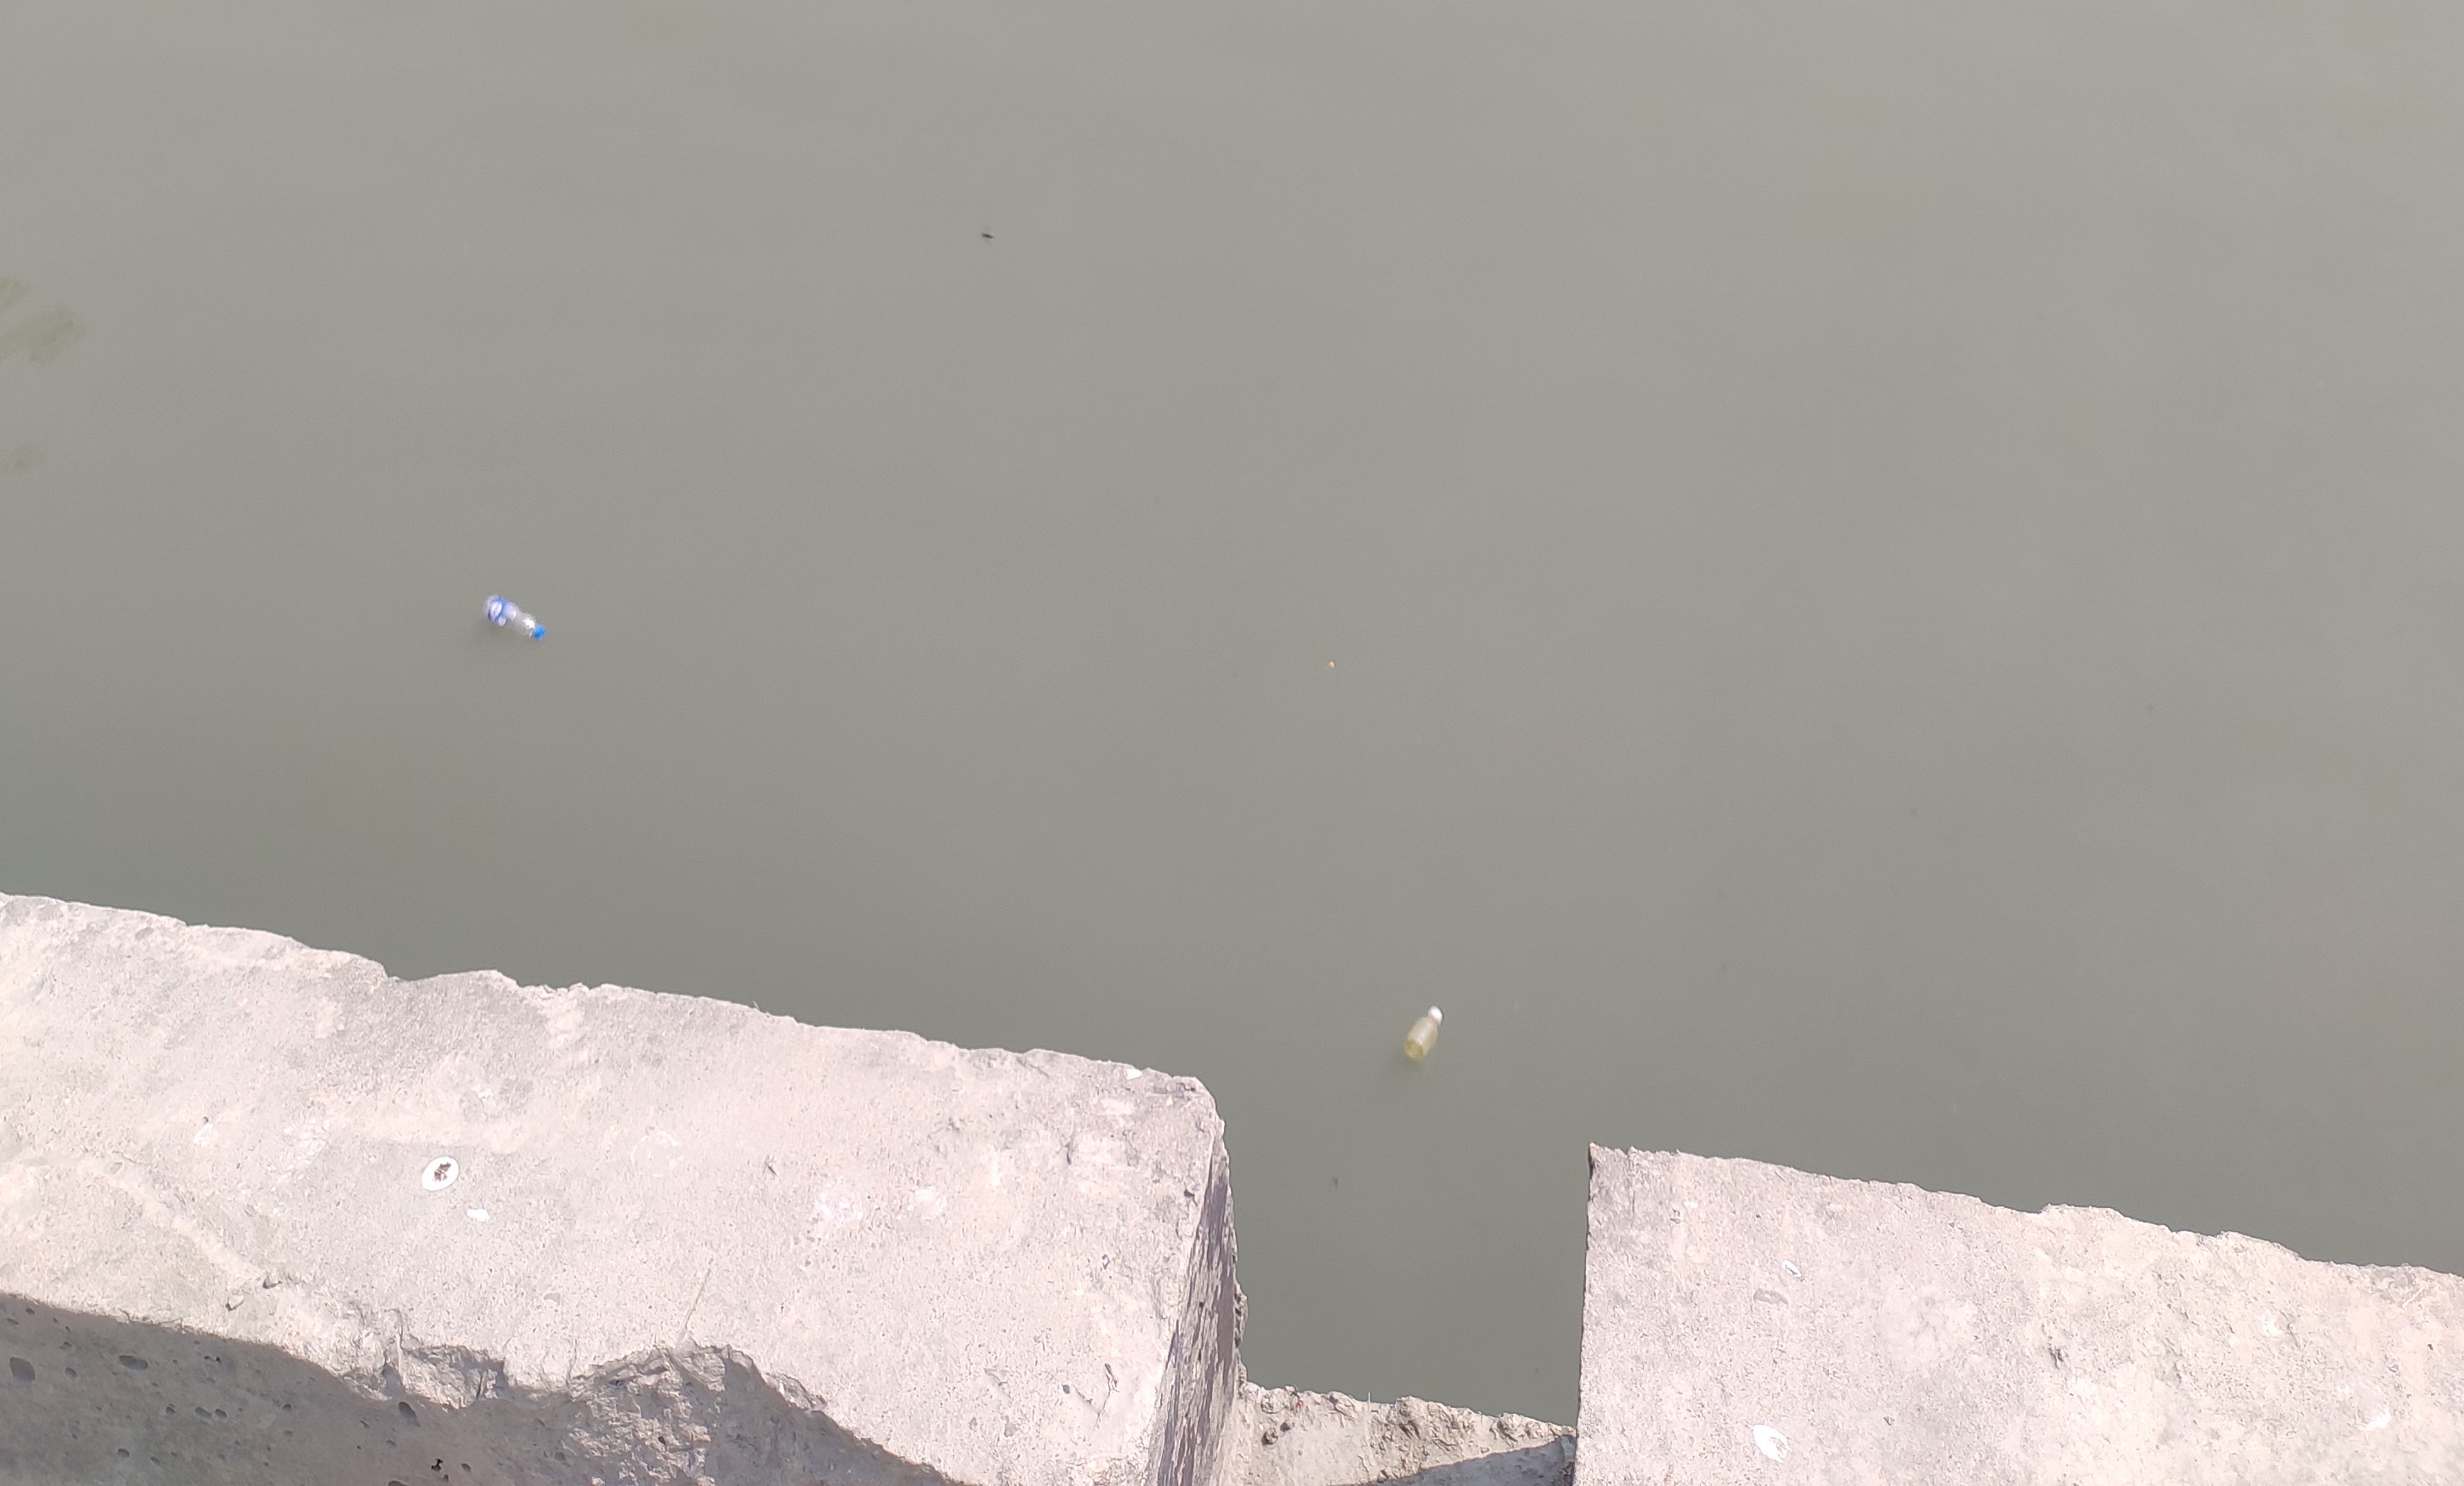Plastic Bottle: (484, 595, 544, 641), (1404, 1005, 1443, 1062)
